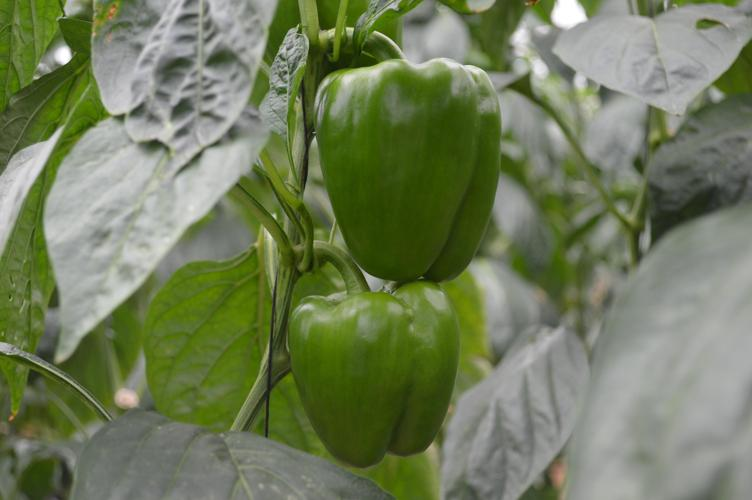BellPepper: (309, 58, 504, 278), (274, 289, 466, 477)
